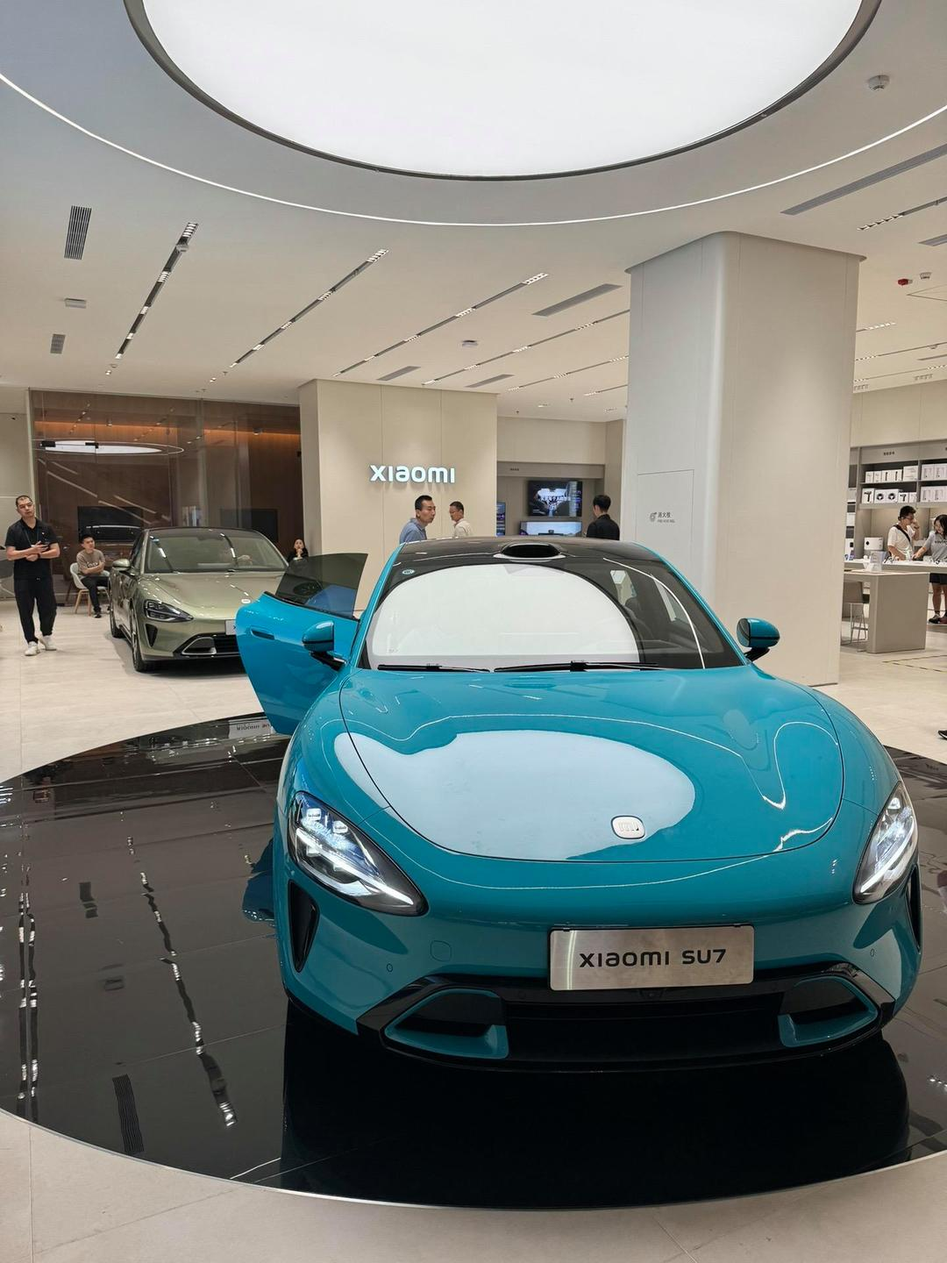su7: (249, 545, 947, 1100), (104, 513, 310, 674)
